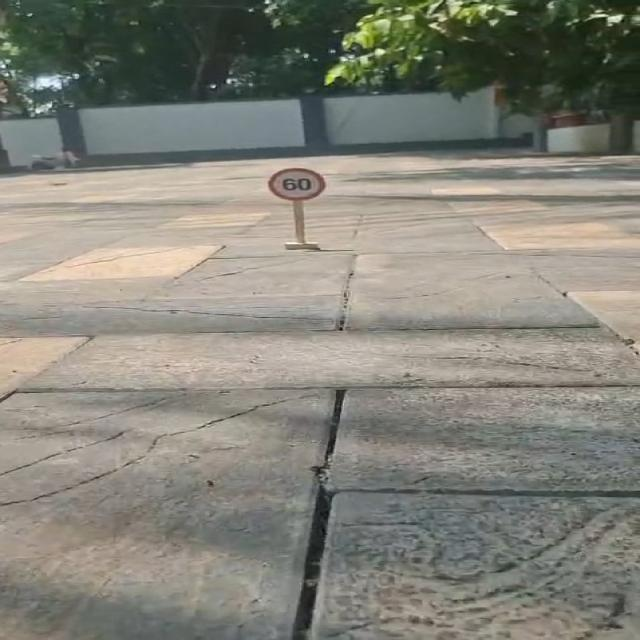Speed60: (266, 167, 328, 203)
